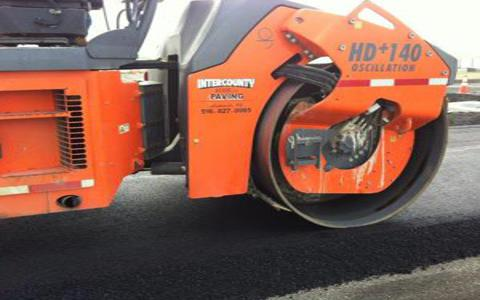Proper road: (130, 185, 182, 285)
